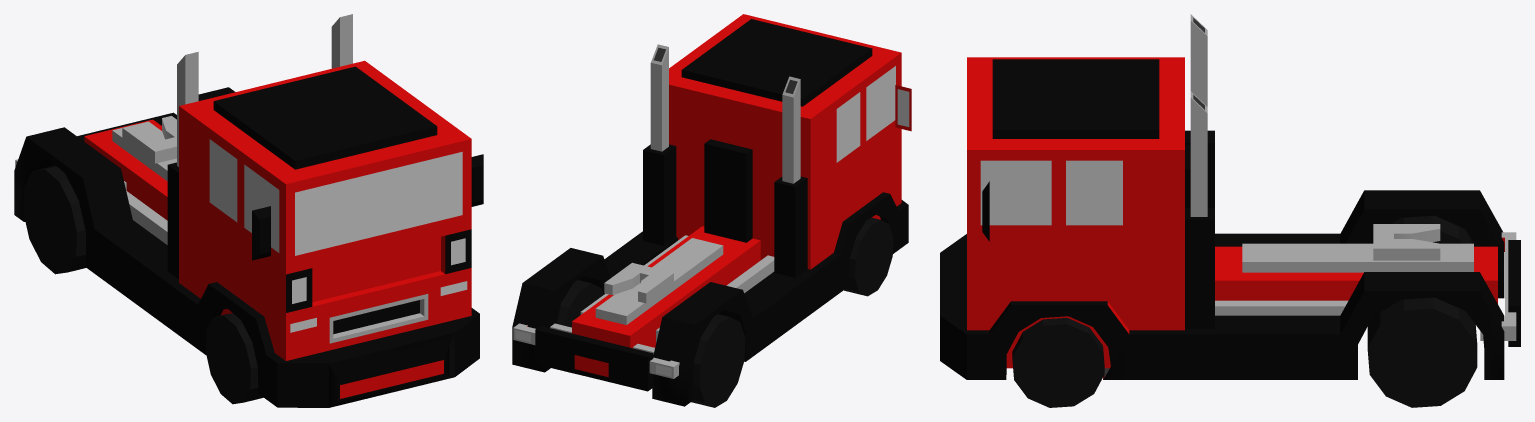
Rendered from racing_truck.gltf.
The picture shows the model from 3 angles, left to right: view 1: azimuth 30°, elevation 25°; view 2: azimuth 150°, elevation 25°; view 3: azimuth 270°, elevation 25°; orthographic projection. The views are drawn at different scales.
Visible parts, largest first — view 1: RacingTruck, SR_Veh_RacingTruck_Wheel_RR, SR_Veh_RacingTruck_Wheel_FR; view 2: RacingTruck, SR_Veh_RacingTruck_Wheel_RR, SR_Veh_RacingTruck_Wheel_FR, SR_Veh_RacingTruck_Wheel_RL; view 3: RacingTruck, SR_Veh_RacingTruck_Wheel_RL, SR_Veh_RacingTruck_Wheel_FL, SR_Veh_RacingTruck_Wheel_RR.
Part boxes in pixels (bbox=[...]): RacingTruck: bbox=[14, 14, 483, 407]; SR_Veh_RacingTruck_Wheel_RR: bbox=[23, 165, 86, 274]; SR_Veh_RacingTruck_Wheel_FR: bbox=[205, 313, 263, 404]; RacingTruck: bbox=[512, 14, 911, 406]; SR_Veh_RacingTruck_Wheel_RR: bbox=[691, 314, 745, 407]; SR_Veh_RacingTruck_Wheel_FR: bbox=[844, 217, 893, 296]; SR_Veh_RacingTruck_Wheel_RL: bbox=[557, 280, 603, 373]; RacingTruck: bbox=[940, 14, 1520, 379]; SR_Veh_RacingTruck_Wheel_RL: bbox=[1367, 297, 1477, 407]; SR_Veh_RacingTruck_Wheel_FL: bbox=[1012, 318, 1104, 407]; SR_Veh_RacingTruck_Wheel_RR: bbox=[1368, 215, 1471, 243].
Bounding box in the file's own units: 4.91 × 5.94 × 10.44.
